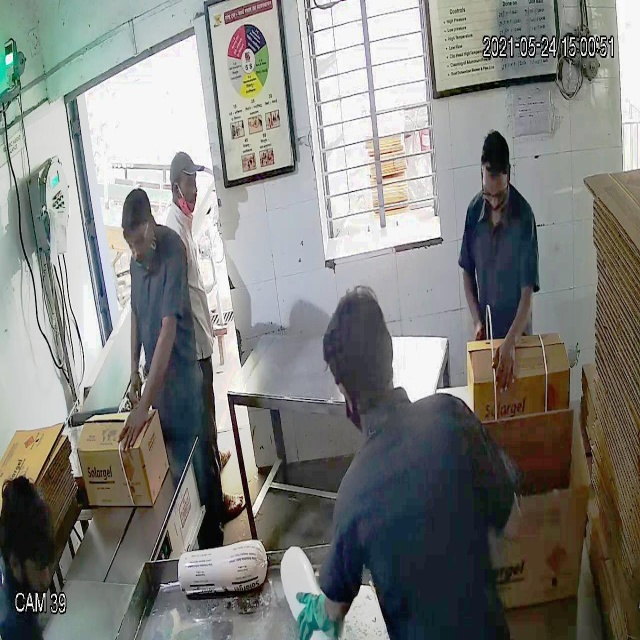Gafas: (120, 224, 152, 254)
